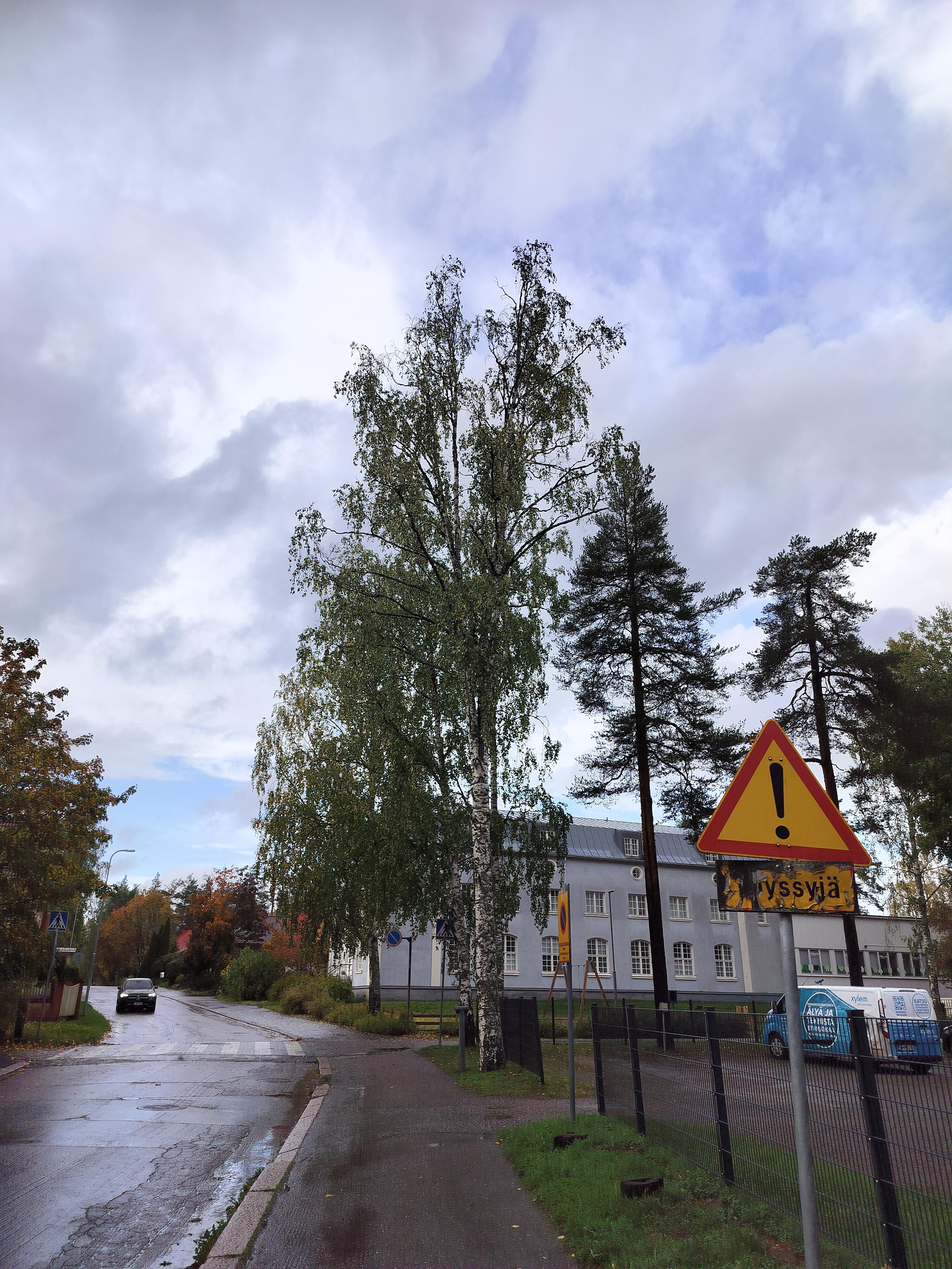Birch: (254, 236, 637, 1074)
